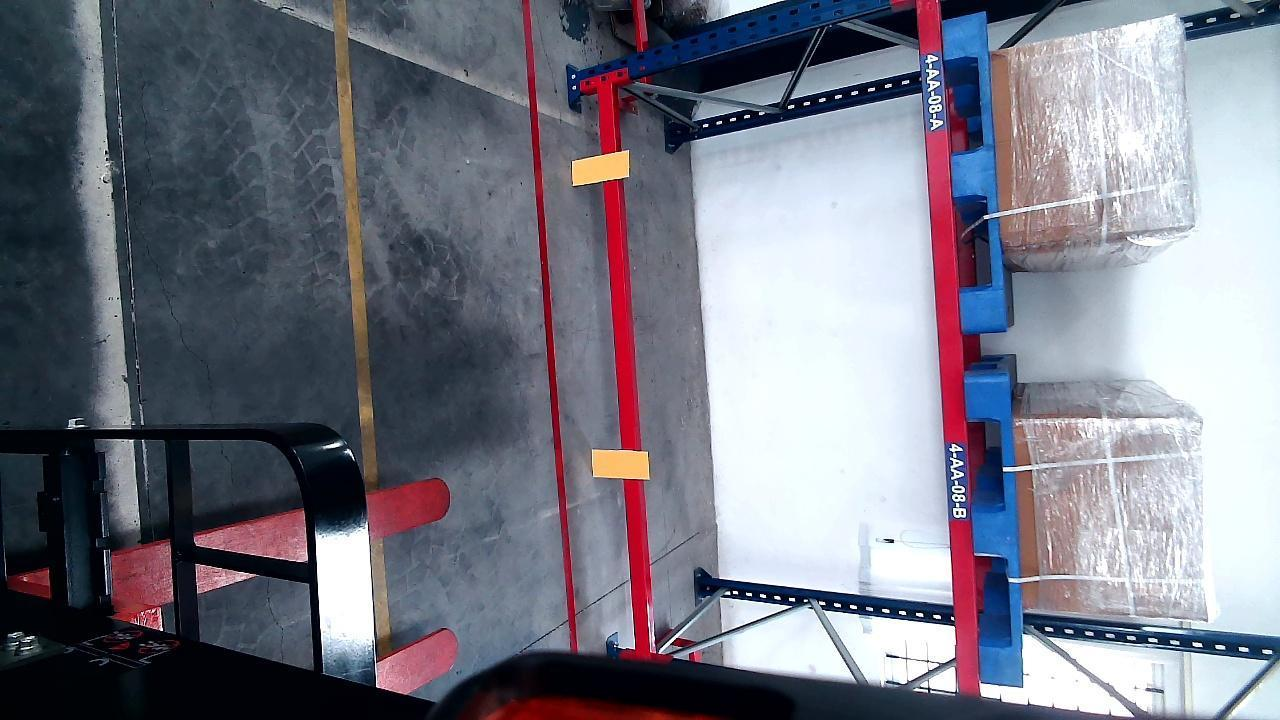h_rack: (918, 0, 980, 673), (598, 80, 650, 651)
orange_strip: (573, 150, 629, 185), (592, 448, 648, 478)
red_line: (526, 3, 577, 669)
small_pallet: (944, 6, 1003, 329), (966, 375, 1024, 677)
yellow_line: (334, 0, 378, 457)
